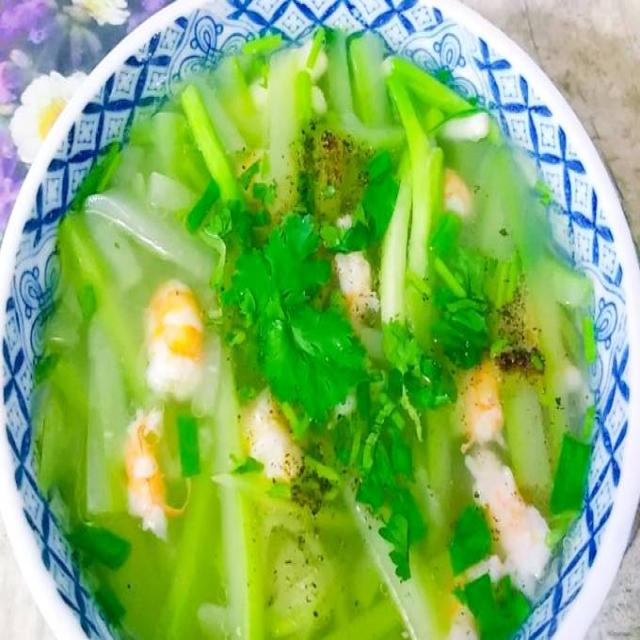canh bau: (32, 29, 600, 637)
